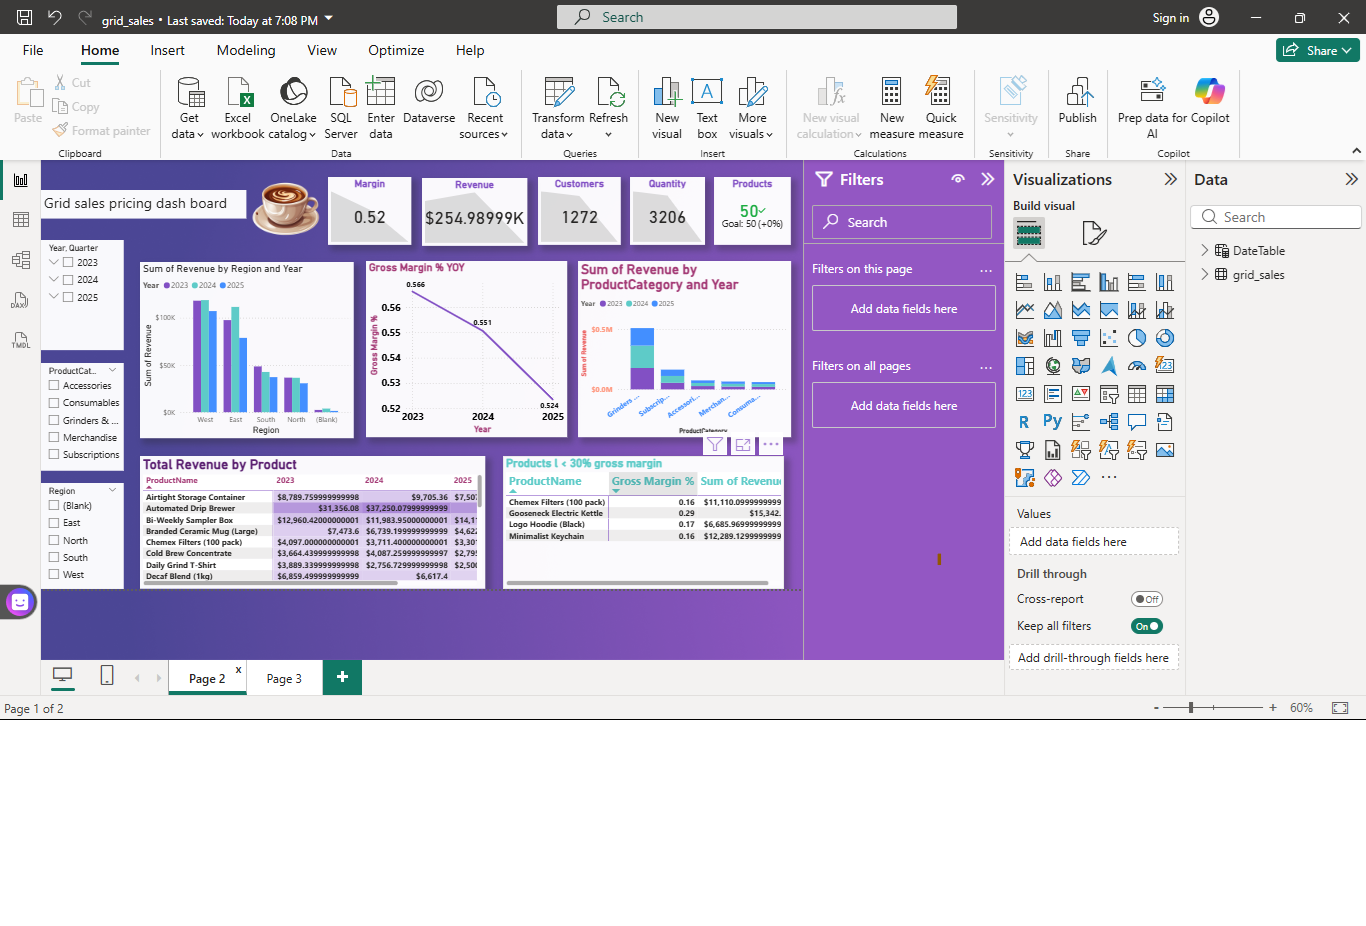

Layout of this report page (visuals, bound fields, positions):
{"tool":"powerbi","page":{"name":"Page 2","canvas":[1280,720],"ordinal":0},"visuals":[{"type":"kpi","title":"Customers","fields":{"TrendLine":["DateTable.Year"],"Indicator":["CountNonNull(grid_sales.CustomerID)"]},"box":[835.6,29.3,139,114.1],"z":0},{"type":"columnChart","fields":{"Y":["Sum(grid_sales.Revenue)"],"Category":["grid_sales.ProductCategory"],"Series":["DateTable.Year"]},"box":[902,169.7,357.8,295.6],"z":1000},{"type":"pivotTable","title":"Total Revenue by Product","fields":{"Rows":["grid_sales.ProductName"],"Columns":["DateTable.Year"],"Values":["Sum(grid_sales.Revenue)"]},"box":[166.3,497.2,579.5,223.4],"z":2000},{"type":"clusteredColumnChart","fields":{"Series":["DateTable.Year"],"Y":["Sum(grid_sales.Revenue)"],"Category":["grid_sales.Region"]},"box":[166.3,171.3,359.5,295.6],"z":3000},{"type":"slicer","fields":{"Values":["DateTable.Year","DateTable.Quarter"]},"box":[0,134.4,139.4,184.8],"z":4000},{"type":"slicer","fields":{"Values":["grid_sales.ProductCategory"]},"box":[0,341,139.4,181.4],"z":5000},{"type":"slicer","fields":{"Values":["grid_sales.Region"]},"box":[0,542.6,139.4,178.1],"z":6000},{"type":"pivotTable","title":"Products l < 30% gross margin","fields":{"Rows":["grid_sales.ProductName"],"Values":["grid_sales.Gross Margin %","Sum(grid_sales.Revenue)"]},"box":[776.1,497.2,472,223.4],"z":7000},{"type":"lineChart","title":"Gross Margin % YOY","fields":{"Category":["DateTable.Year"],"Y":["grid_sales.Gross Margin %"]},"box":[545.9,169.7,337.6,295.6],"z":8000},{"type":"kpi","title":" Margin ","fields":{"TrendLine":["DateTable.Year"],"Indicator":["grid_sales.Gross Margin %"]},"box":[481.5,29.3,140.5,114.1],"z":9000},{"type":"kpi","title":"Quantity ","fields":{"TrendLine":["DateTable.Year"],"Indicator":["Sum(grid_sales.Quantity)"]},"box":[989.3,29.3,125.9,114.1],"z":10000},{"type":"kpi","title":"Products","fields":{"TrendLine":["DateTable.Year"],"Indicator":["Count(grid_sales.ProductID)"],"Goal":["Count(grid_sales.ProductID)"]},"box":[1129.8,29.3,128.8,114.1],"z":11000},{"type":"kpi","title":" Revenue ","fields":{"Indicator":["Sum(grid_sales.Revenue)"],"TrendLine":["DateTable.Year"]},"box":[639.5,30.7,177.1,114.1],"z":12000},{"type":"image","box":[327.8,0,169.8,166.8],"z":13000},{"type":"textbox","box":[0,49.8,345.4,48.3],"z":14000}]}

Visuals, with their boxes on the page's 1280x720 design canvas (x1, y1, x2, y2). These are canvas units, not pixel positions in the 1366x926 screenshot, which may show the page scaled, cropped or inside an application window:
"Customers" kpi: box=[836, 29, 975, 143]
columnChart - Sum(grid_sales.Revenue) x grid_sales.ProductCategory: box=[902, 170, 1260, 465]
"Total Revenue by Product" pivotTable: box=[166, 497, 746, 721]
clusteredColumnChart - DateTable.Year x Sum(grid_sales.Revenue): box=[166, 171, 526, 467]
slicer - DateTable.Year x DateTable.Quarter: box=[0, 134, 139, 319]
slicer - grid_sales.ProductCategory: box=[0, 341, 139, 522]
slicer - grid_sales.Region: box=[0, 543, 139, 721]
"Products l < 30% gross margin" pivotTable: box=[776, 497, 1248, 721]
"Gross Margin % YOY" lineChart: box=[546, 170, 884, 465]
" Margin " kpi: box=[482, 29, 622, 143]
"Quantity " kpi: box=[989, 29, 1115, 143]
"Products" kpi: box=[1130, 29, 1259, 143]
" Revenue " kpi: box=[640, 31, 817, 145]
image: box=[328, 0, 498, 167]
textbox: box=[0, 50, 345, 98]
